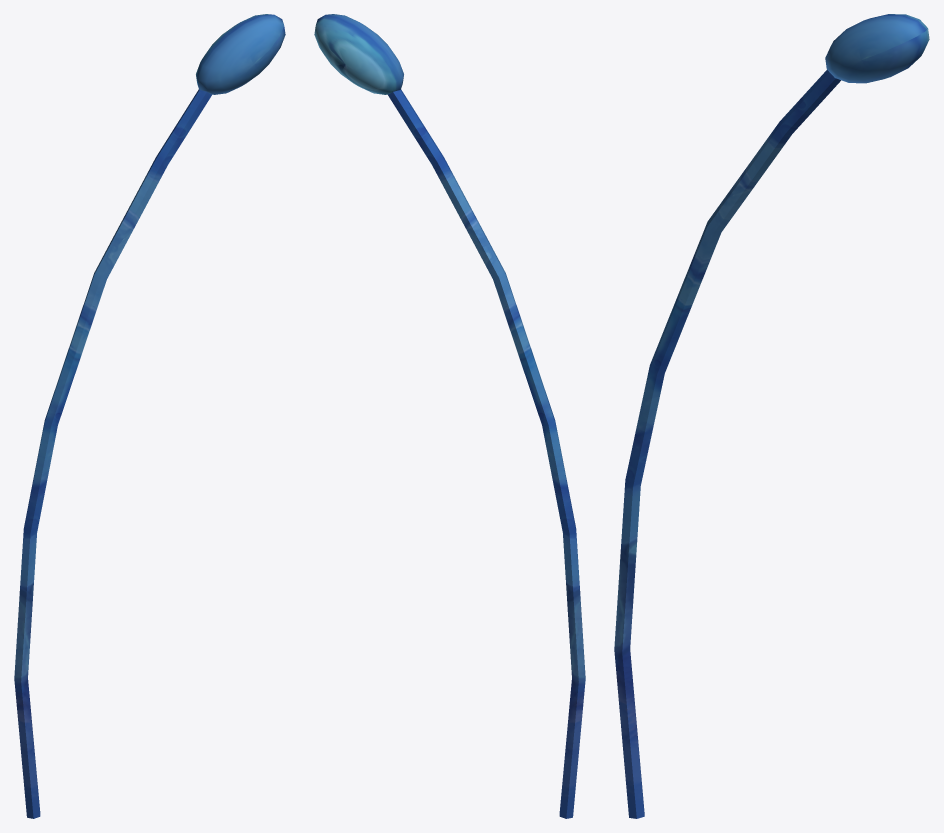
Rendered from Avatar_flower_02.fbx.
3 renders of one model, left to right at view 1: azimuth 30°, elevation 25°; view 2: azimuth 150°, elevation 25°; view 3: azimuth 330°, elevation 25°, orthographic. The views are drawn at different scales.
Parts seen in each view (by area): view 1: Avatar_flower_02; view 2: Avatar_flower_02; view 3: Avatar_flower_02.
Part boxes in pixels (x1,y1,x2,y2): Avatar_flower_02: [14, 14, 285, 818]; Avatar_flower_02: [314, 14, 585, 818]; Avatar_flower_02: [614, 14, 929, 818].
Size of the model in its own units: 20.06 by 52.97 by 3.52.
